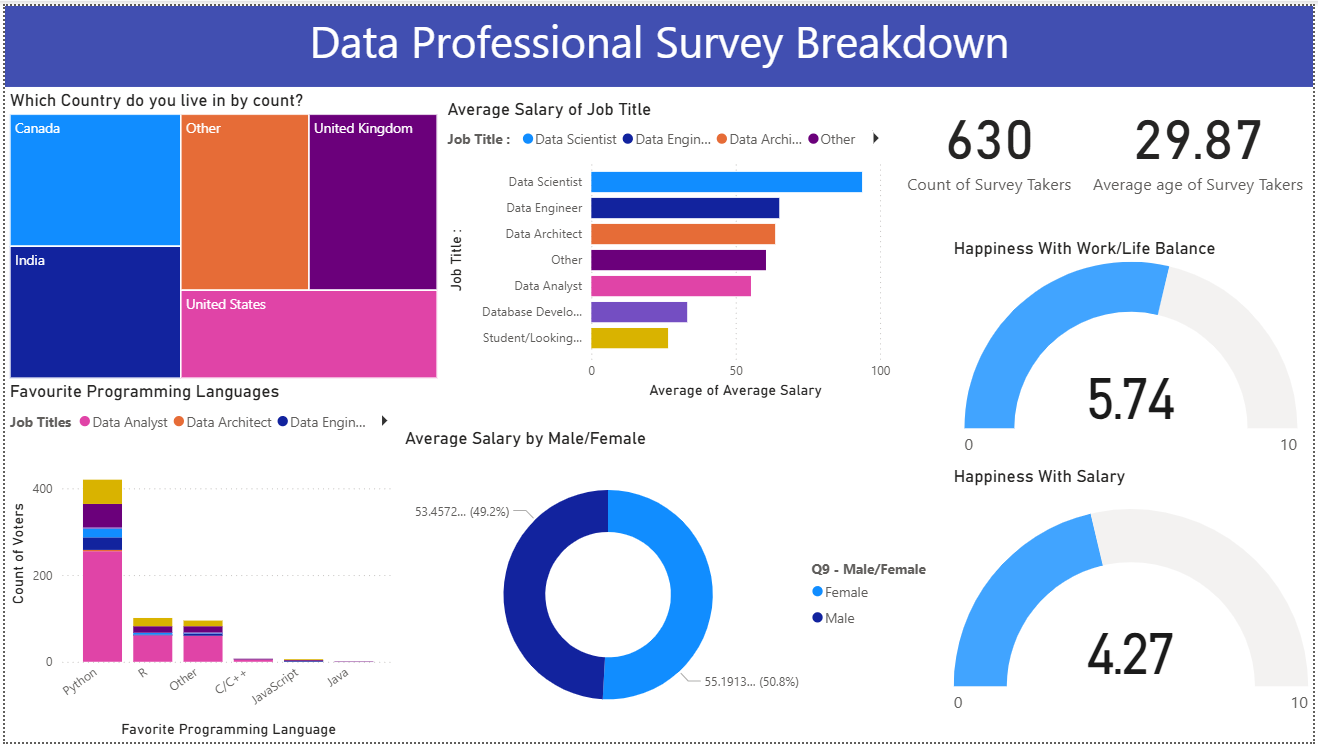

What the dashboard file says about the page in this screenshot:
{"tool":"powerbi","page":{"name":"Job Survey dashboard","canvas":[1280,720],"ordinal":0},"visuals":[{"type":"textbox","box":[0,0,1280.3,79.6],"z":0},{"type":"card","fields":{"Values":["Count(Data Professional Survey.Unique ID)"]},"box":[871.4,79.6,182.5,111.1],"z":1000},{"type":"card","fields":{"Values":["Avg(Data Professional Survey.Q10 - Current Age)"]},"box":[1053.9,79.6,226.4,111.1],"z":2000},{"type":"barChart","title":"Average Salary of Job Title","fields":{"Category":["Data Professional Survey.Q1 - Which Title Best Fits your Current Role?.1"],"Y":["Avg(Data Professional Survey.Average Salary)"],"Series":["Data Professional Survey.Q1 - Which Title Best Fits your Current Role?.1"]},"box":[428.1,90.6,443.2,297.8],"z":3000},{"type":"columnChart","title":"Favourite Programming Languages","fields":{"Category":["Data Professional Survey.Q5 - Favorite Programming Language.1"],"Y":["CountNonNull(Data Professional Survey.Unique ID)"],"Series":["Data Professional Survey.Q1 - Which Title Best Fits your Current Role?.1"]},"box":[0,366.8,386.4,353.4],"z":4000},{"type":"treemap","title":"Which Country do you live in by count?","fields":{"Group":["Data Professional Survey.Q11 - Which Country do you live in?.1"],"Values":["Count(Data Professional Survey.Q11 - Which Country do you live in?.1)"]},"box":[0,81.9,428,287.4],"z":5000},{"type":"gauge","title":"Happiness With Work/Life Balance","fields":{"Y":["Avg(Data Professional Survey.Q6 - How Happy are you in your Current Position with the following? (Work/Life Balance))"],"MinValue":["Min(Data Professional Survey.Q6 - How Happy are you in your Current Position with the following? (Work/Life Balance))"],"MaxValue":["Max(Data Professional Survey.Q6 - How Happy are you in your Current Position with the following? (Work/Life Balance))"]},"box":[923.5,226.4,356.8,223.7],"z":6000},{"type":"gauge","title":"Happiness With Salary","fields":{"Y":["Avg(Data Professional Survey.Q6 - How Happy are you in your Current Position with the following? (Salary))"],"MinValue":["Min(Data Professional Survey.Q6 - How Happy are you in your Current Position with the following? (Salary))"],"MaxValue":["Max(Data Professional Survey.Q6 - How Happy are you in your Current Position with the following? (Salary))"]},"box":[923.5,450.1,356.8,270.3],"z":7000},{"type":"donutChart","title":"Average Salary by Male/Female","fields":{"Category":["Data Professional Survey.Q9 - Male/Female?"],"Y":["Avg(Data Professional Survey.Average Salary)"]},"box":[387,411.7,536.5,308.7],"z":8000}]}

Visuals, with their boxes in screenshot pixels (x1, y1, x2, y2), scaled from the page's 1280x720 canvas onto the 1318x745 screenshot:
textbox: [0, 0, 1317, 82]
card - Count(Data Professional Survey.Unique ID): [897, 82, 1085, 197]
card - Avg(Data Professional Survey.Q10 - Current Age): [1085, 82, 1317, 197]
"Average Salary of Job Title" barChart: [441, 94, 897, 402]
"Favourite Programming Languages" columnChart: [0, 380, 398, 744]
"Which Country do you live in by count?" treemap: [0, 85, 441, 382]
"Happiness With Work/Life Balance" gauge: [951, 234, 1317, 466]
"Happiness With Salary" gauge: [951, 466, 1317, 744]
"Average Salary by Male/Female" donutChart: [398, 426, 951, 744]
